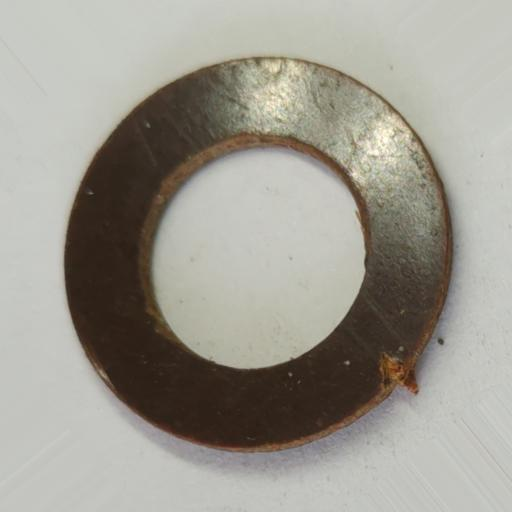defect: (377, 349, 419, 398)
